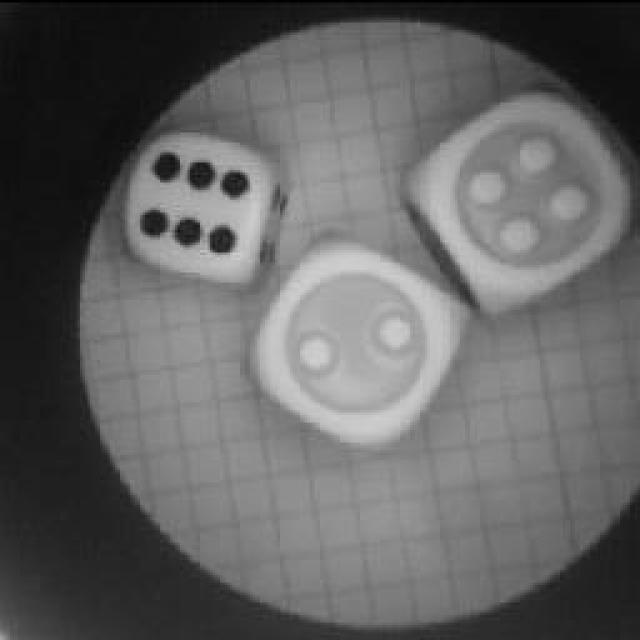dice_2: (238, 235, 470, 460)
dice_4: (398, 82, 632, 310)
dice_6: (120, 125, 285, 287)
